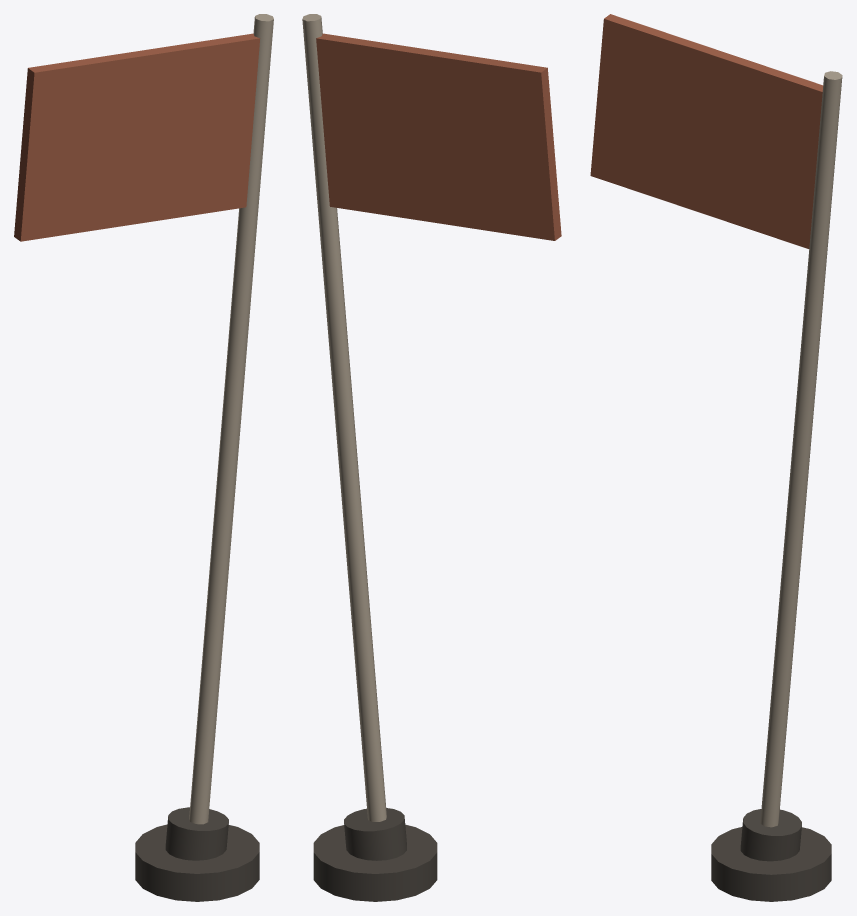
File: yard_flag (1).fbx
3 renders of one model, left to right at view 1: azimuth 30°, elevation 25°; view 2: azimuth 150°, elevation 25°; view 3: azimuth 330°, elevation 25°, orthographic. The views are drawn at different scales.
Visible parts, largest first — view 1: yard_flag; view 2: yard_flag; view 3: yard_flag.
Boxes of the visible parts, x1=… form: yard_flag: x1=14, y1=14, x2=273, y2=901; yard_flag: x1=302, y1=14, x2=561, y2=901; yard_flag: x1=590, y1=14, x2=842, y2=901.
Bounding box in the file's own units: 239 × 756 × 100.
1 material, 1 textured.
